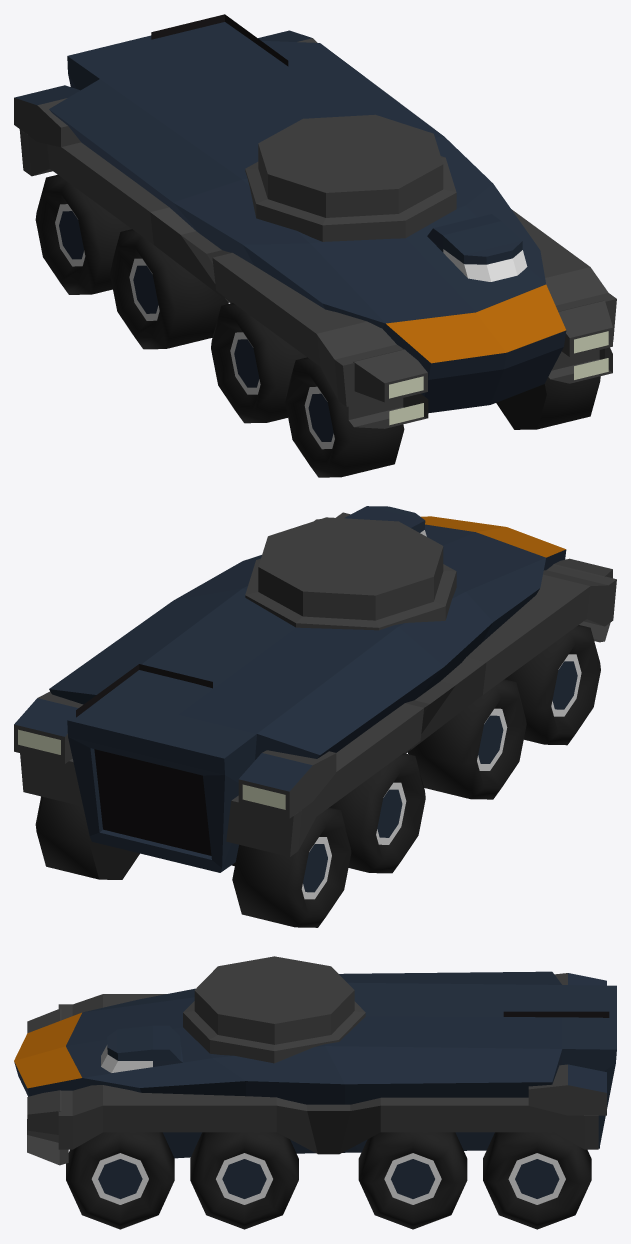
Rendered from lav.fbx.
The picture shows the model from 3 angles, top to bottom: view 1: azimuth 30°, elevation 25°; view 2: azimuth 150°, elevation 25°; view 3: azimuth 270°, elevation 25°; orthographic projection. The views are drawn at different scales.
Parts seen in each view (by area): view 1: Hull; view 2: Hull; view 3: Hull.
Boxes of the visible parts, x1=… form: Hull: x1=14, y1=14, x2=616, y2=477; Hull: x1=14, y1=506, x2=616, y2=927; Hull: x1=14, y1=956, x2=616, y2=1229.
Bounding box in the file's own units: 294 × 230 × 666.
